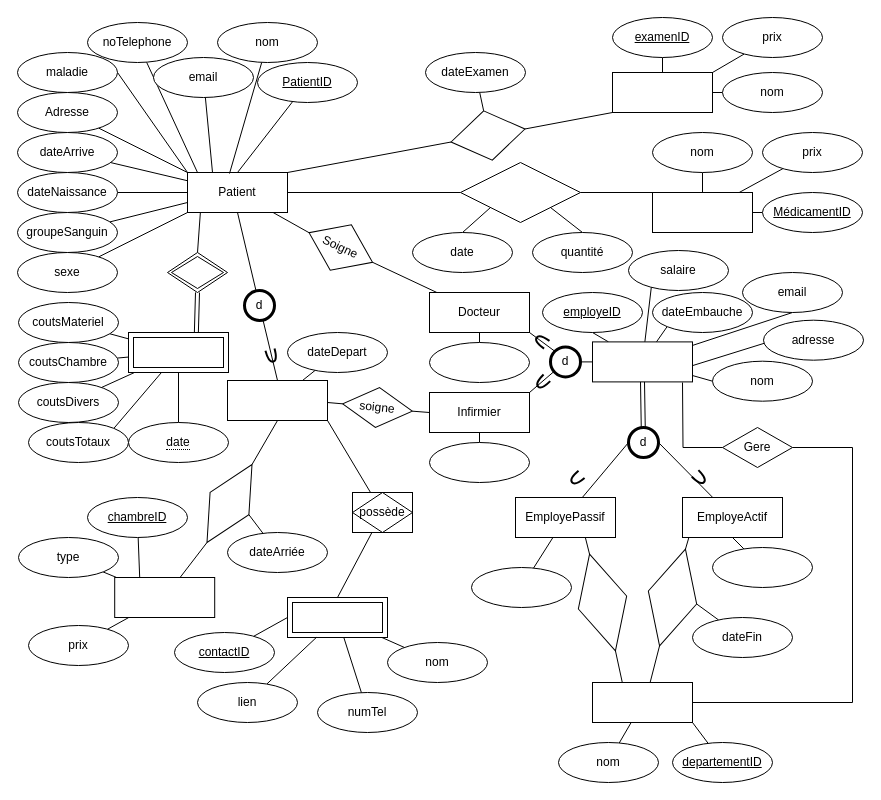
The diagram is 881 pixels wide and 800 high, and some of its shapes have lost their labels. The centre of each missing label's shape, as x and y in pixels:
"Chambre" goes at (164,597).
"ContactUrgence" goes at (337,617).
"dateDebutActivite" goes at (762,567).
"dateFinActivite" goes at (521,587).
"Departement" goes at (642,702).
"Employe" goes at (642,361).
"Examen" goes at (662,92).
"Facture" goes at (178,352).
"Médicament" goes at (702,212).
"nombrePatients" goes at (479,462).
"PatientAdmis" goes at (277,400).
"Paye" goes at (197,272).
"Prends" goes at (520,192).
"qualification" goes at (479,362).
"reside_dans" goes at (229,503).
"Subit" goes at (487,135).
"travaillait_dans" goes at (672,597).
"travaille_dans" goes at (602,602).
